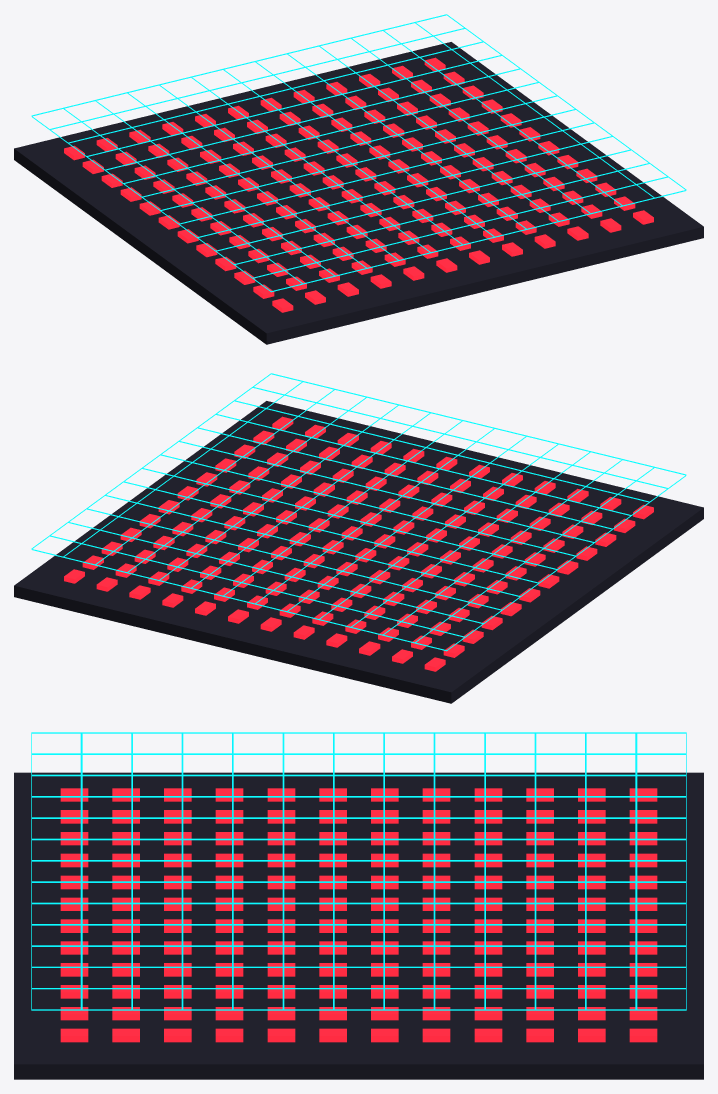
3 views of the same model, one above another, from view 1: azimuth 30°, elevation 25°; view 2: azimuth 150°, elevation 25°; view 3: azimuth 270°, elevation 25° (orthographic). The views are drawn at different scales.
Visible parts, largest first — view 1: Silicon_Substrate_Base, DASM_Routing_Layer; view 2: Silicon_Substrate_Base, DASM_Routing_Layer; view 3: Silicon_Substrate_Base, DASM_Routing_Layer.
Part boxes in pixels (x1,y1,x2,y2): Silicon_Substrate_Base: [14, 42, 703, 344]; DASM_Routing_Layer: [31, 14, 686, 292]; Silicon_Substrate_Base: [14, 401, 703, 703]; DASM_Routing_Layer: [31, 373, 686, 651]; Silicon_Substrate_Base: [14, 772, 703, 1079]; DASM_Routing_Layer: [31, 732, 686, 1010].
Bounding box in the file's own units: 20 × 2.02 × 20.
